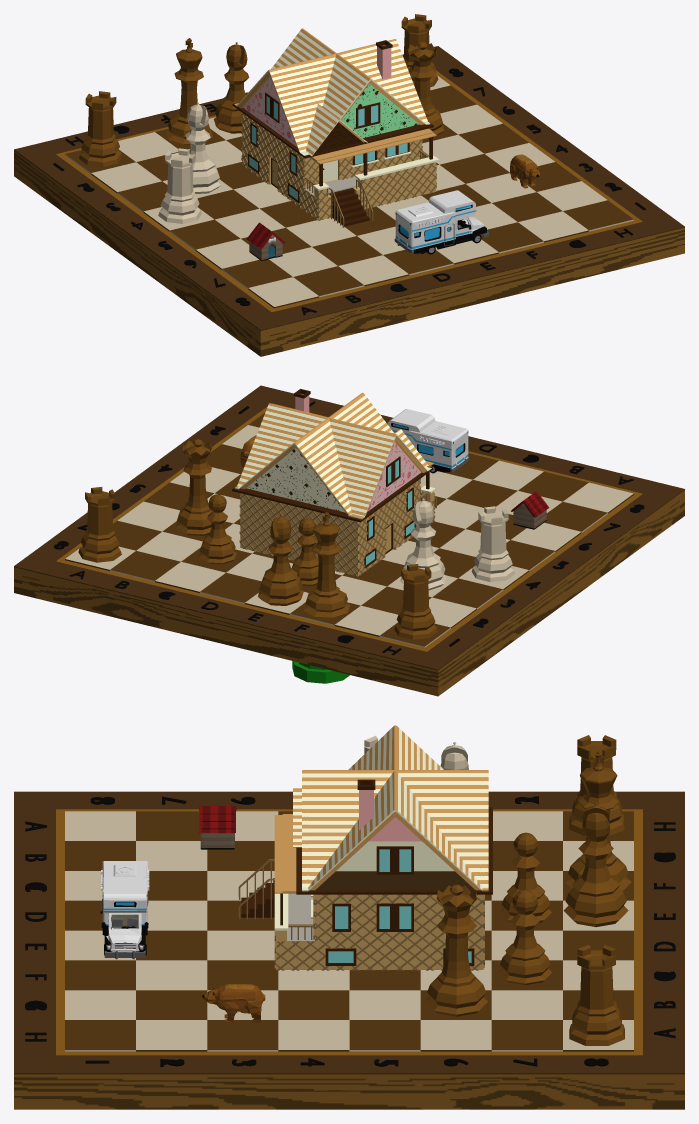
The picture shows the model from 3 angles, top to bottom: view 1: azimuth 30°, elevation 25°; view 2: azimuth 150°, elevation 25°; view 3: azimuth 270°, elevation 25°; orthographic projection. The views are drawn at different scales.
Visible parts, largest first — view 1: Cube.002, Cube.1102, VEHICLES_CAMPER, OBJRANDOM_DOGHOUSE, ANIMAL_OSO; view 2: Cube.002, Cube.1102, VEHICLES_CAMPER, OBJRANDOM_DOGHOUSE, UNDERGROUND_PIPES; view 3: Cube.002, Cube.1102, VEHICLES_CAMPER, ANIMAL_OSO, OBJRANDOM_DOGHOUSE.
Part boxes in pixels (x1,y1,x2,y2): Cube.002: (14, 14, 684, 356); Cube.1102: (232, 28, 439, 227); VEHICLES_CAMPER: (394, 190, 488, 254); OBJRANDOM_DOGHOUSE: (247, 222, 285, 260); ANIMAL_OSO: (510, 154, 540, 188); Cube.002: (14, 385, 684, 696); Cube.1102: (232, 389, 436, 576); VEHICLES_CAMPER: (387, 409, 469, 473); OBJRANDOM_DOGHOUSE: (511, 491, 549, 529); UNDERGROUND_PIPES: (292, 661, 349, 683); Cube.002: (14, 735, 684, 1109); Cube.1102: (238, 725, 492, 970); VEHICLES_CAMPER: (100, 861, 149, 959); ANIMAL_OSO: (202, 984, 265, 1022); OBJRANDOM_DOGHOUSE: (199, 806, 236, 849).
Size of the model in its own units: 3981 by 2068 by 4012.
36 materials, 3 textured.
